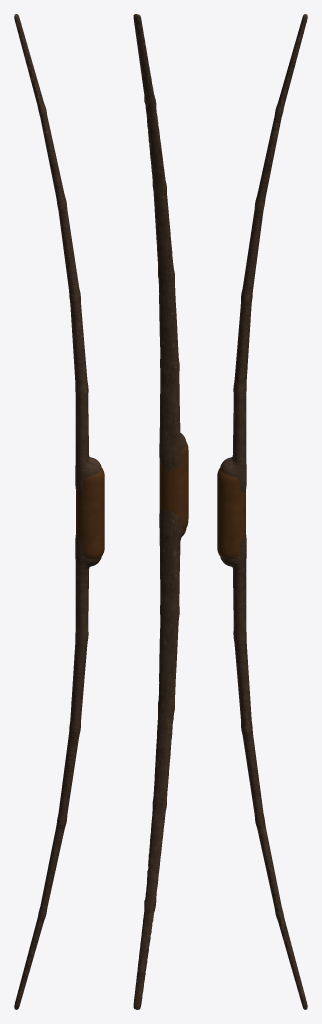
File: w-bow.glb
3 renders of one model, left to right at view 1: azimuth 90°, elevation 25°; view 2: azimuth 150°, elevation 25°; view 3: azimuth 270°, elevation 25°, orthographic.
Visible parts, largest first — view 1: w-bow; view 2: w-bow; view 3: w-bow.
Boxes of the visible parts, bbox=[...] form: w-bow: bbox=[14, 14, 104, 1009]; w-bow: bbox=[133, 14, 188, 1009]; w-bow: bbox=[217, 14, 307, 1009].
Size of the model in its own units: 0.0437 by 1.67 by 0.1377.
Materials: 2 (2 with a texture image).
